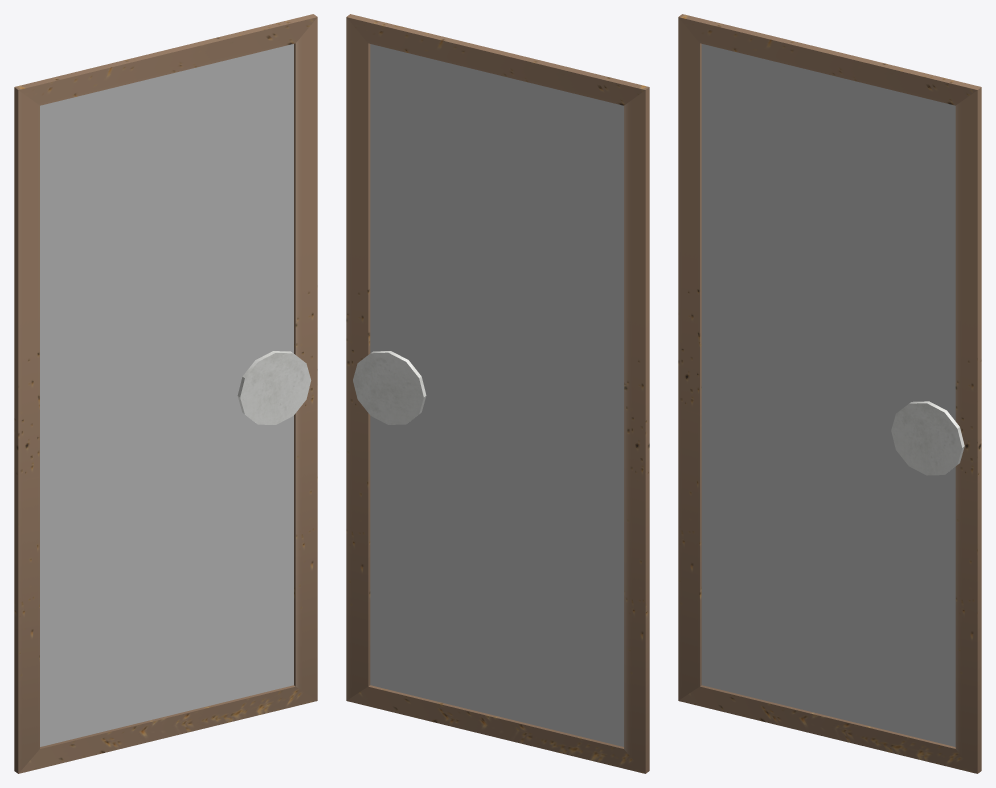
File: shopf_mart_door1.fbx
The picture shows the model from 3 angles, left to right: view 1: azimuth 30°, elevation 25°; view 2: azimuth 150°, elevation 25°; view 3: azimuth 330°, elevation 25°; orthographic projection.
Visible parts, largest first — view 1: spf_mart_door1; view 2: spf_mart_door1; view 3: spf_mart_door1.
Part boxes in pixels (x1,y1,x2,y2): spf_mart_door1: [14, 14, 317, 773]; spf_mart_door1: [346, 14, 649, 773]; spf_mart_door1: [678, 14, 981, 773].
Bounding box in the file's own units: 107 × 233 × 7.97.
